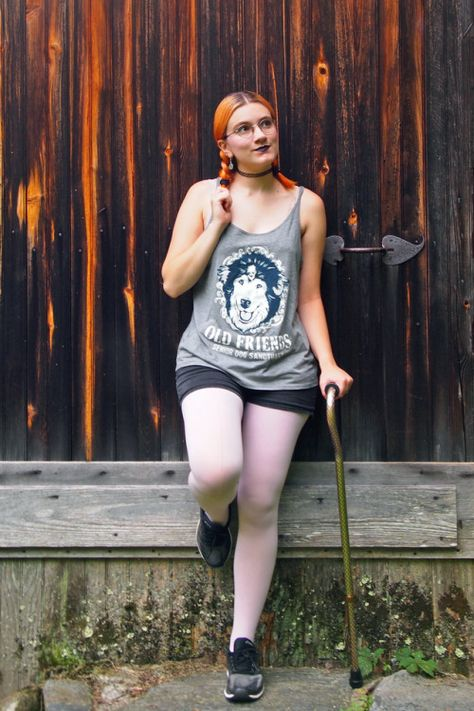person: (155, 84, 353, 707)
